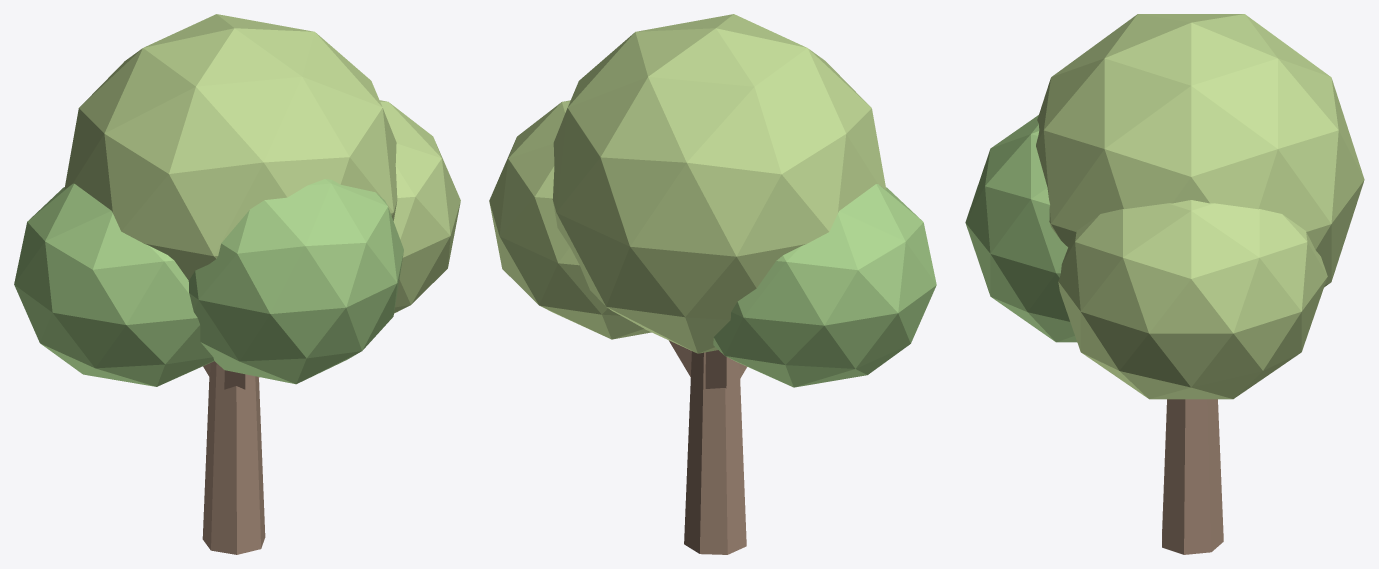
The model's file is tree.glb.
The picture shows the model from 3 angles, left to right: view 1: azimuth 30°, elevation 25°; view 2: azimuth 150°, elevation 25°; view 3: azimuth 270°, elevation 25°; orthographic projection.
Visible parts, largest first — view 1: tree; view 2: tree; view 3: tree.
Boxes of the visible parts, x1,y1,x2,y2 form: tree: (14,14,460,554); tree: (489,14,936,554); tree: (965,14,1364,554).
Size of the model in its own units: 4.52 by 5.45 by 3.8.
